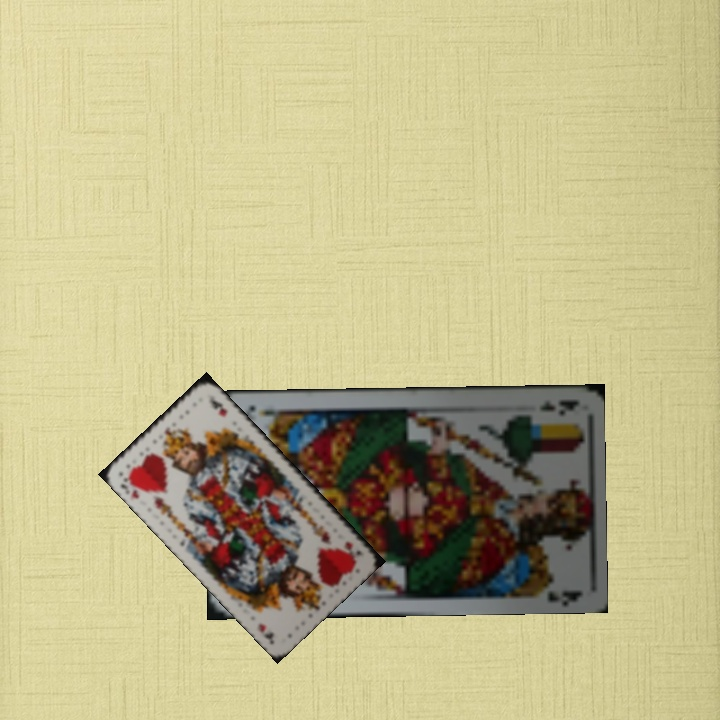EK: (535, 395, 578, 418)
HK: (116, 472, 146, 501), (340, 537, 363, 558)
